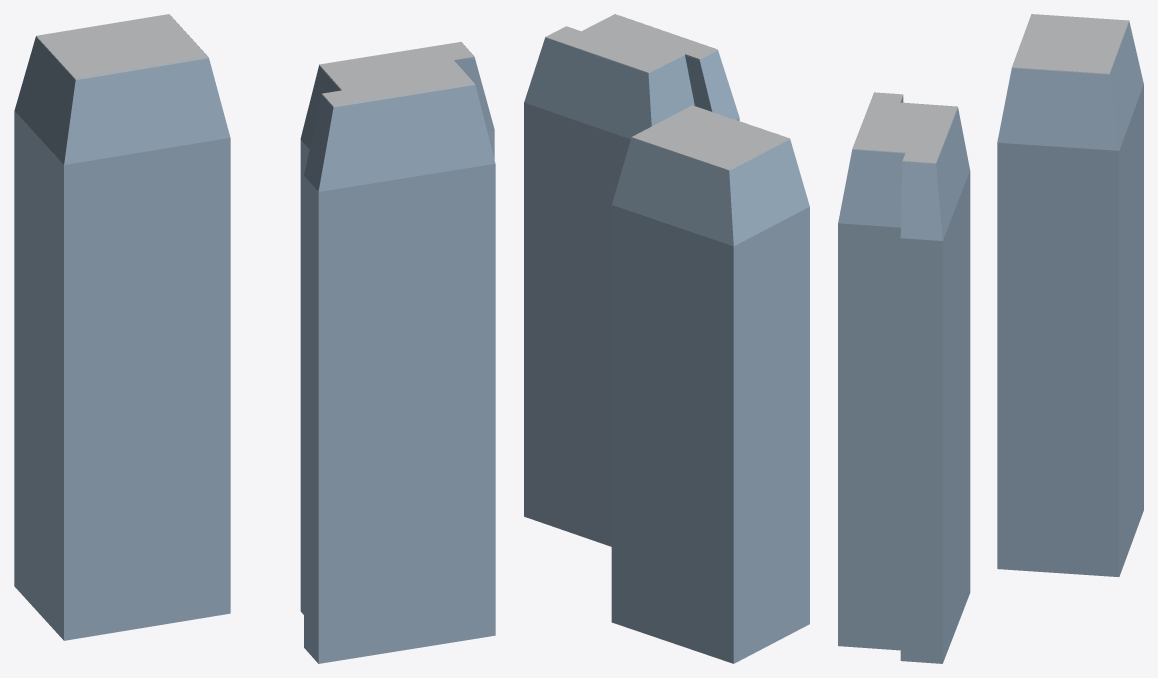
File: onebkk.glb
3 views of the same model, side by side, from view 1: azimuth 30°, elevation 25°; view 2: azimuth 150°, elevation 25°; view 3: azimuth 270°, elevation 25° (orthographic). The views are drawn at different scales.
Parts seen in each view (by area): view 1: onebkk; view 2: onebkk; view 3: onebkk.
Boxes of the visible parts, <box> form: onebkk: <box>14,14,495,663</box>; onebkk: <box>524,14,809,663</box>; onebkk: <box>838,14,1143,663</box>.
Bounding box in the file's own units: 171 × 245 × 137.
